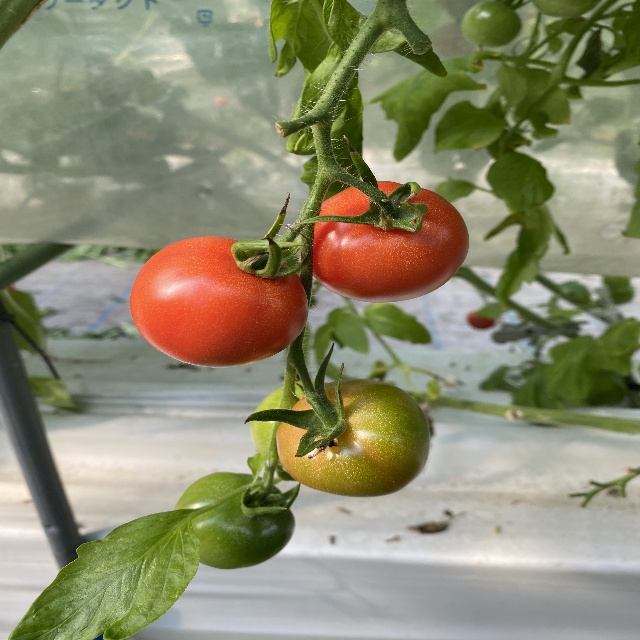l_fully_ripened: (129, 236, 310, 367), (313, 180, 470, 303)
l_green: (166, 472, 297, 569), (251, 381, 325, 464)
l_half_ripened: (275, 378, 431, 498)
